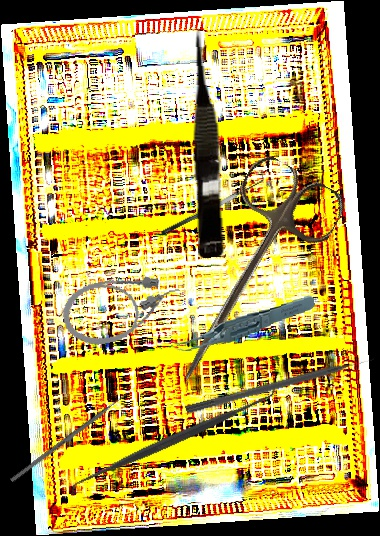Cannula: (57, 269, 187, 350)
Iris Scissors: (146, 150, 350, 406)
Micro Scissor: (186, 25, 229, 259)
Pusher: (10, 386, 136, 483), (184, 354, 377, 417)
Spatula Surgical: (62, 379, 287, 498), (156, 171, 269, 236)
Tissue Forceps: (166, 294, 318, 353)
